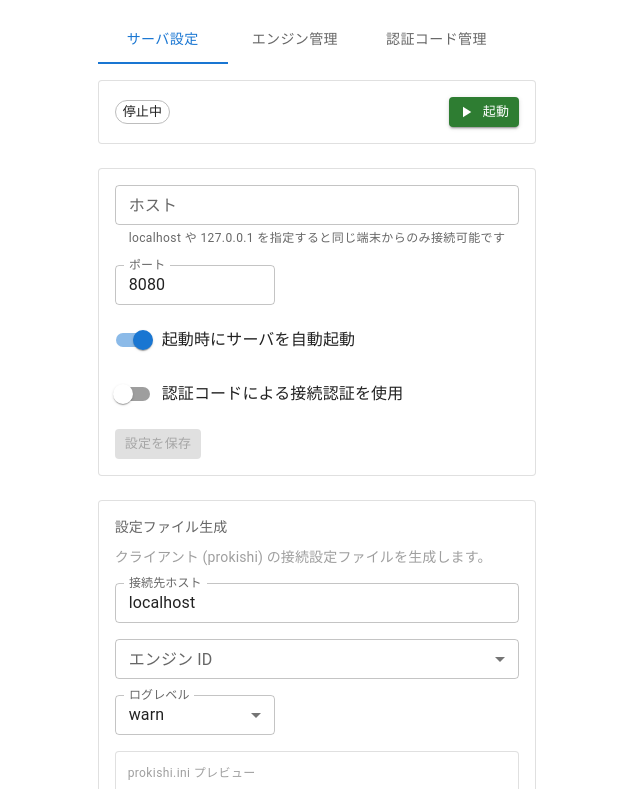
it: MasterView › renders without crashing and shows expected content across all tabs
Expected: the text "停止中" is shown, 123,104 -> 162,119
Expected: the button "起動" is shown, 449,97 -> 519,127
Click the tab "エンジン管理" at [295, 40], box 228,16 -> 362,64
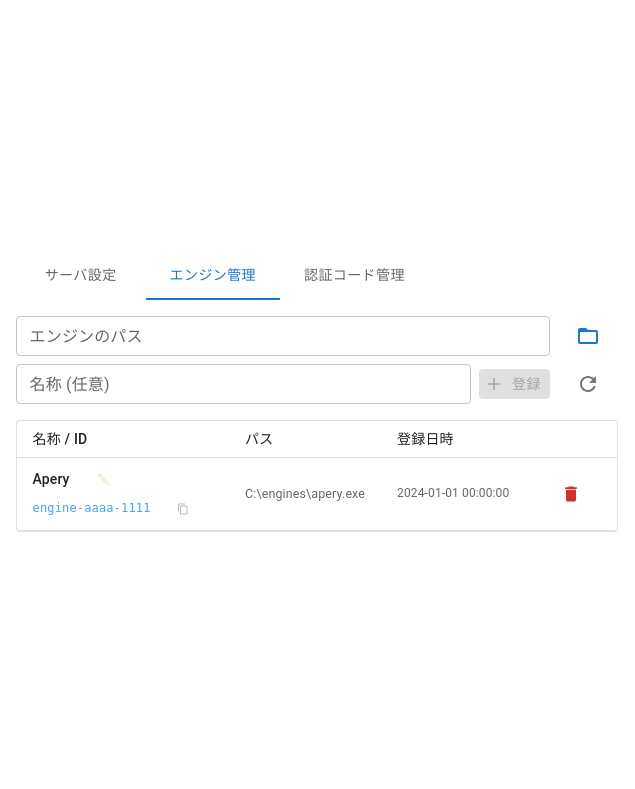
Now the text "Apery" is shown, box 33,468 -> 70,490
Now the text "C:\\engines\\apery.exe" is shown, box 229,458 -> 381,530
Click the tab "認証コード管理" at [354, 276], box 280,252 -> 429,300
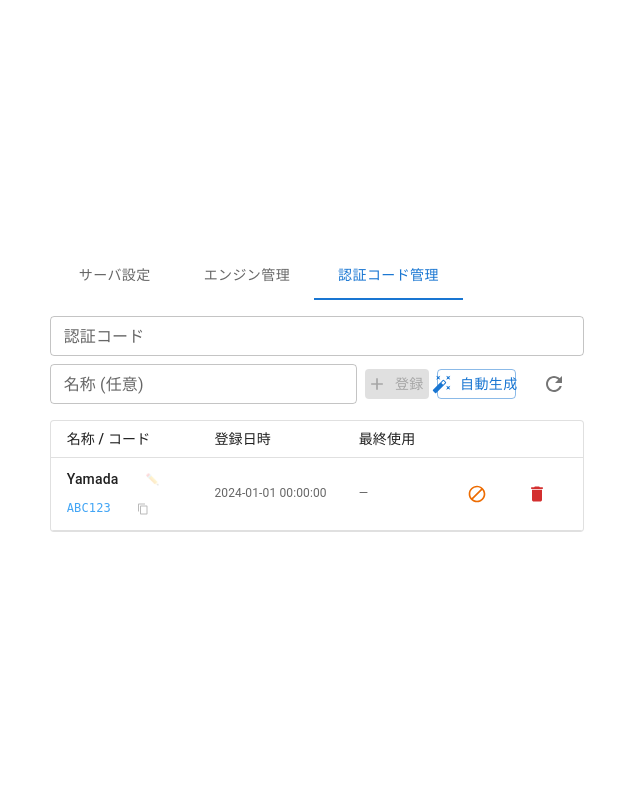
Now the text "Yamada" is shown, box 67,468 -> 118,490
Now the text "ABC123" is shown, box 67,494 -> 182,524
